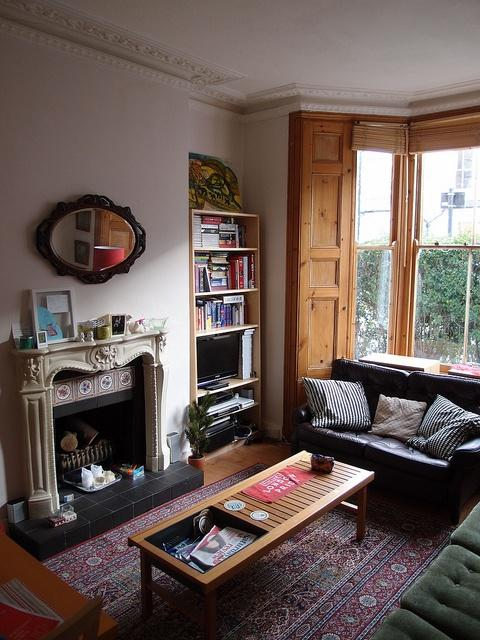Meja: (127, 447, 374, 624)
Rak: (190, 206, 261, 456)
